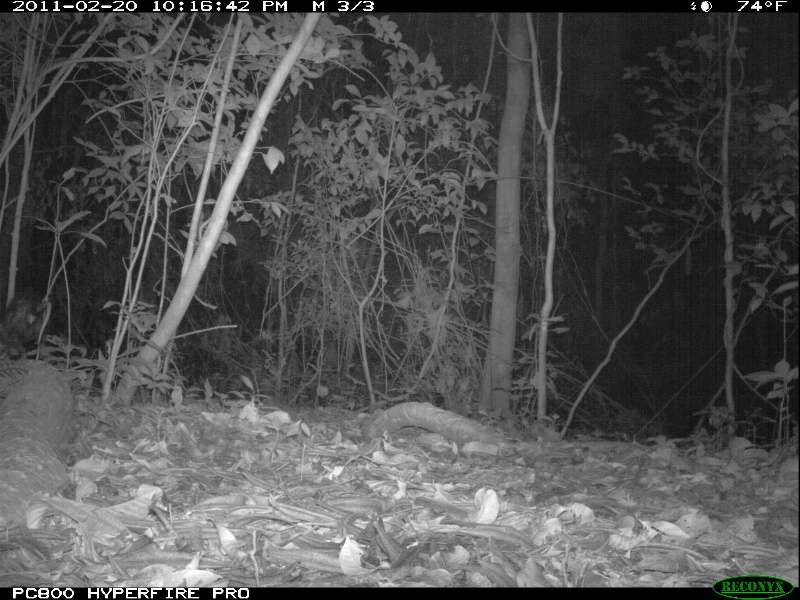opossum: (1, 292, 50, 359)
